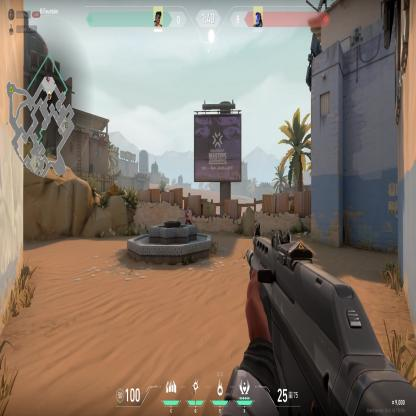enemy: (184, 206, 192, 225)
